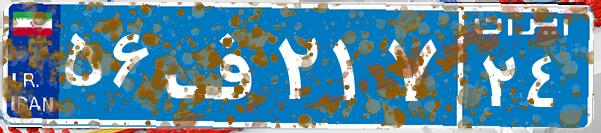1: (330, 28, 385, 110)
2: (273, 28, 330, 110), (475, 38, 525, 113)
4: (525, 38, 570, 115)
5: (57, 26, 110, 107)
6: (110, 28, 158, 105)
7: (385, 28, 445, 110)
ف: (158, 15, 273, 115)
